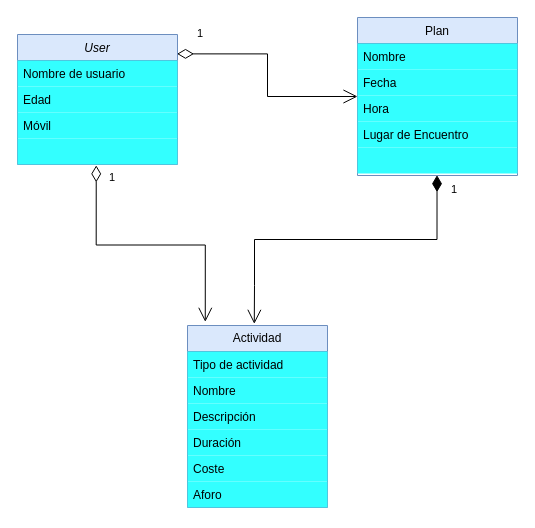
This 535x528 diagram has some shape labels left out. The shapes that lost their labels are listed below. From the top down, each one's centre as x and y in pixels, then its label:
At (x=97, y=151): "Contraseña".
At (x=437, y=160): "Capacidad máxima".
